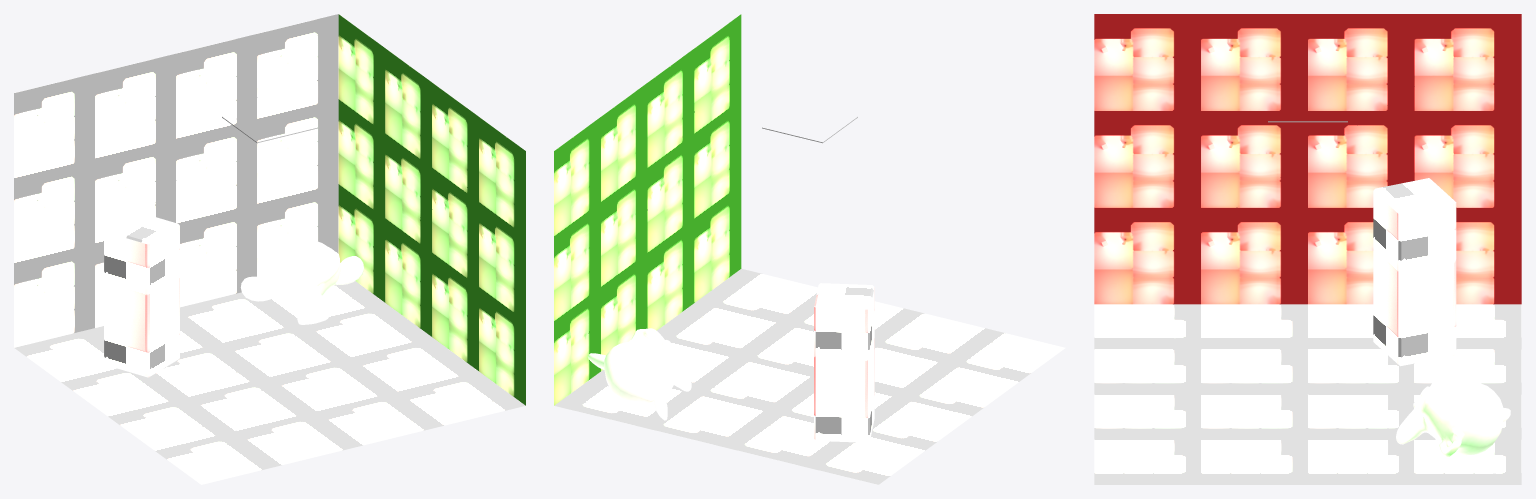
File: cornell.glb
3 renders of one model, left to right at view 1: azimuth 30°, elevation 25°; view 2: azimuth 150°, elevation 25°; view 3: azimuth 270°, elevation 25°, orthographic. The views are drawn at different scales.
Visible parts, largest first — view 1: cornellBox.000, bloc.000, suzanne.000; view 2: cornellBox.000, bloc.000, suzanne.000; view 3: cornellBox.000, bloc.000, suzanne.000.
Boxes of the visible parts, <box> form: cornellBox.000: <box>14,14,525,484</box>; bloc.000: <box>104,211,179,377</box>; suzanne.000: <box>240,240,363,324</box>; cornellBox.000: <box>554,14,1065,484</box>; bloc.000: <box>814,283,874,442</box>; suzanne.000: <box>587,328,691,420</box>; cornellBox.000: <box>1094,14,1521,484</box>; bloc.000: <box>1373,178,1456,366</box>; suzanne.000: <box>1396,367,1510,457</box>.
Size of the model in its own units: 4 by 3 by 4.
